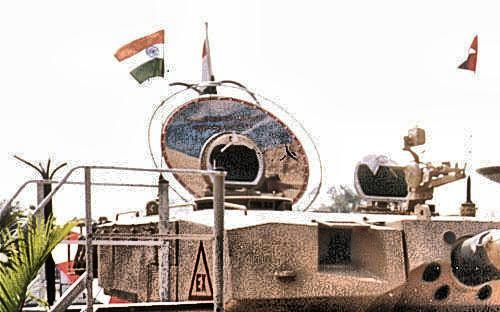tanks: (47, 85, 500, 312)
